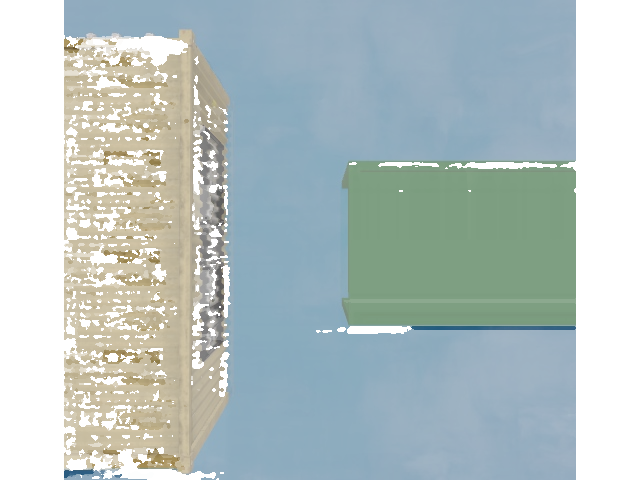container2: (337, 155, 640, 330)
container3: (5, 24, 234, 477)
